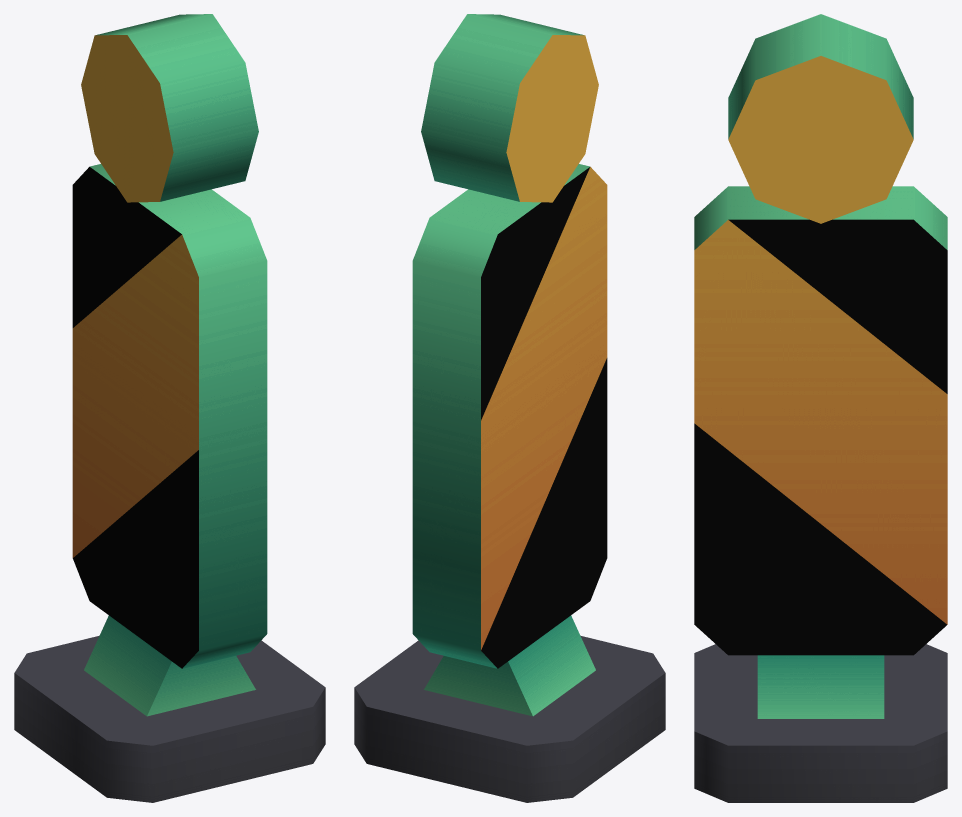
File: construction_light.glb
3 renders of one model, left to right at view 1: azimuth 30°, elevation 25°; view 2: azimuth 150°, elevation 25°; view 3: azimuth 270°, elevation 25°, orthographic.
Parts seen in each view (by area): view 1: construction-light; view 2: construction-light; view 3: construction-light.
Part boxes in pixels (bbox=[...]): construction-light: bbox=[14, 14, 325, 802]; construction-light: bbox=[354, 14, 665, 802]; construction-light: bbox=[694, 14, 947, 802].
Size of the model in its own units: 0.075 by 0.2337 by 0.075.
Materials: 1 (1 with a texture image).
